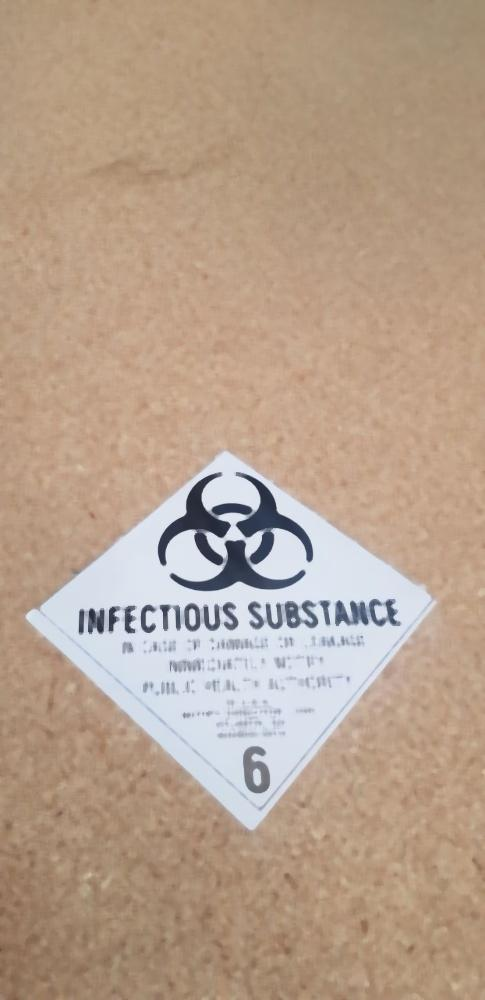infectious-substance: (30, 452, 443, 827)
